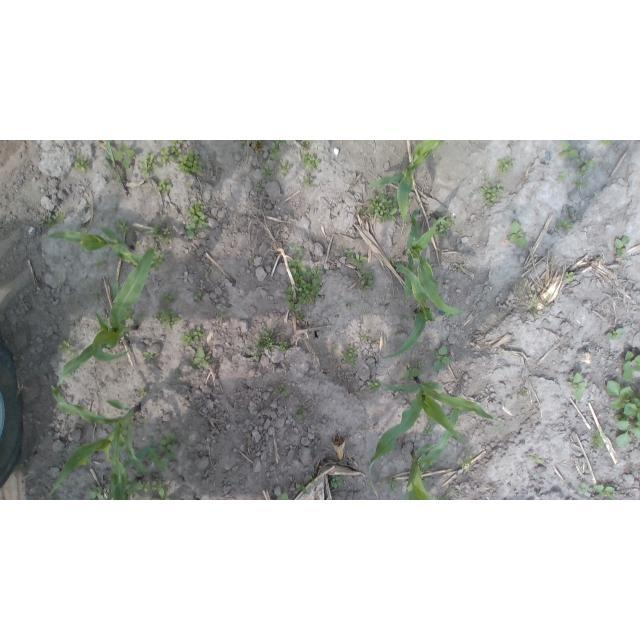Maize: (369, 375, 500, 498), (56, 247, 154, 388), (46, 386, 147, 500), (406, 199, 463, 314), (368, 140, 444, 225), (40, 228, 160, 272), (403, 408, 460, 500), (384, 263, 436, 360), (108, 440, 157, 501), (105, 140, 127, 193)
Weeds: (282, 243, 324, 319), (607, 380, 640, 449), (369, 191, 398, 224), (253, 328, 278, 361), (567, 371, 588, 401), (179, 150, 203, 174), (188, 200, 208, 228), (113, 144, 135, 169), (622, 350, 640, 380), (507, 220, 526, 248), (481, 183, 504, 206), (146, 448, 167, 471), (434, 346, 452, 371), (156, 310, 180, 328), (153, 477, 171, 500), (438, 210, 455, 234), (160, 433, 177, 457), (141, 152, 158, 176), (149, 224, 171, 242), (193, 347, 211, 369), (359, 269, 376, 291), (559, 141, 580, 158), (303, 152, 320, 173), (615, 236, 630, 259), (594, 485, 616, 500), (498, 157, 517, 174), (343, 346, 358, 367), (88, 481, 104, 500), (59, 341, 76, 358), (591, 430, 605, 450), (351, 254, 368, 269), (74, 156, 89, 173), (605, 328, 625, 340), (161, 146, 176, 162), (555, 220, 574, 232), (459, 453, 474, 468), (157, 180, 171, 196), (273, 384, 290, 397), (403, 366, 420, 379), (152, 250, 165, 266), (186, 223, 199, 239), (182, 331, 195, 347), (330, 475, 344, 489), (261, 165, 274, 179), (279, 161, 292, 174), (137, 480, 151, 492), (388, 479, 400, 493), (161, 293, 176, 304), (296, 406, 307, 421), (193, 327, 204, 342), (172, 140, 183, 154), (528, 455, 544, 464), (115, 222, 129, 232), (194, 291, 206, 302), (423, 423, 433, 436), (369, 382, 379, 395), (302, 176, 313, 187), (278, 341, 289, 352), (45, 215, 55, 227), (296, 484, 308, 494), (271, 146, 280, 159), (578, 164, 587, 177), (580, 483, 590, 494), (302, 140, 313, 150), (56, 212, 65, 224), (445, 312, 458, 320), (564, 271, 574, 281), (584, 160, 595, 169), (575, 179, 587, 187), (279, 492, 290, 500), (526, 308, 538, 315), (345, 250, 354, 259), (144, 352, 153, 361), (519, 389, 528, 398), (90, 290, 100, 298), (558, 172, 566, 182), (94, 261, 106, 267), (40, 217, 47, 227), (274, 140, 287, 145), (361, 333, 369, 341), (220, 308, 227, 317), (360, 207, 369, 214), (422, 478, 431, 485), (205, 270, 212, 278), (457, 263, 464, 271), (137, 390, 145, 397), (601, 141, 612, 146), (128, 310, 134, 319), (175, 369, 181, 378), (311, 474, 316, 484), (111, 205, 117, 213), (351, 181, 357, 188), (419, 361, 426, 367), (430, 459, 437, 465), (258, 183, 263, 191), (347, 301, 353, 307), (543, 301, 549, 307), (187, 183, 193, 188), (135, 241, 140, 247), (391, 258, 396, 264), (408, 199, 412, 206), (251, 255, 255, 262)
